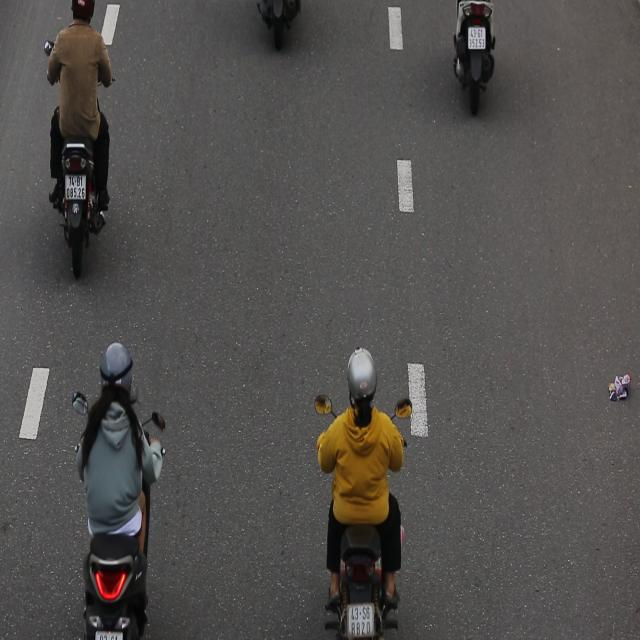motorbike: (314, 326, 415, 640)
